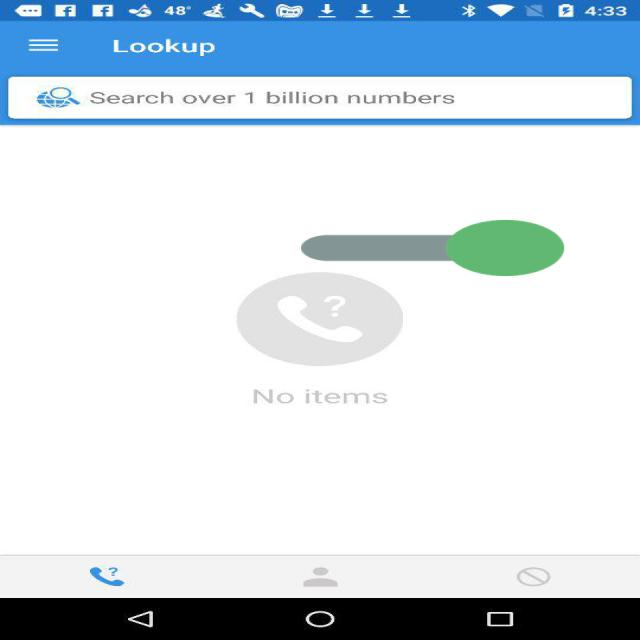social proof: (301, 185, 564, 311)
